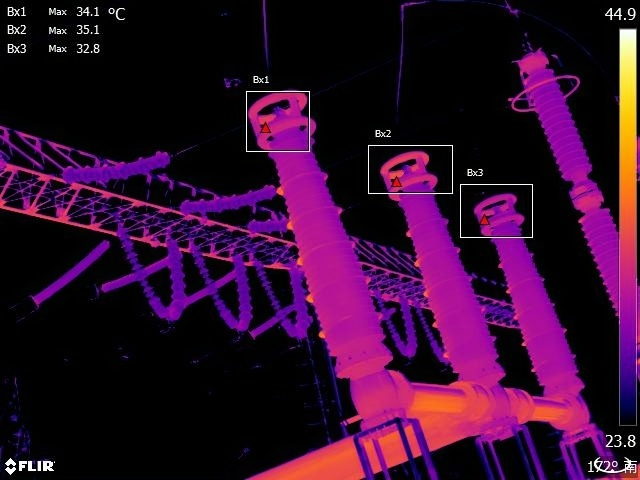insulator: (27, 237, 112, 309), (54, 149, 176, 187), (119, 221, 165, 319), (193, 239, 239, 334), (178, 180, 279, 217), (254, 254, 296, 340), (97, 252, 171, 295), (375, 285, 405, 358), (163, 235, 187, 324), (286, 254, 310, 341), (180, 270, 238, 305), (232, 249, 255, 336), (417, 306, 449, 367), (247, 303, 294, 339), (397, 286, 420, 359), (246, 214, 293, 236)
lightning arrester: (510, 33, 640, 374)
tube: (247, 82, 403, 384), (384, 139, 507, 384), (477, 174, 587, 397)
